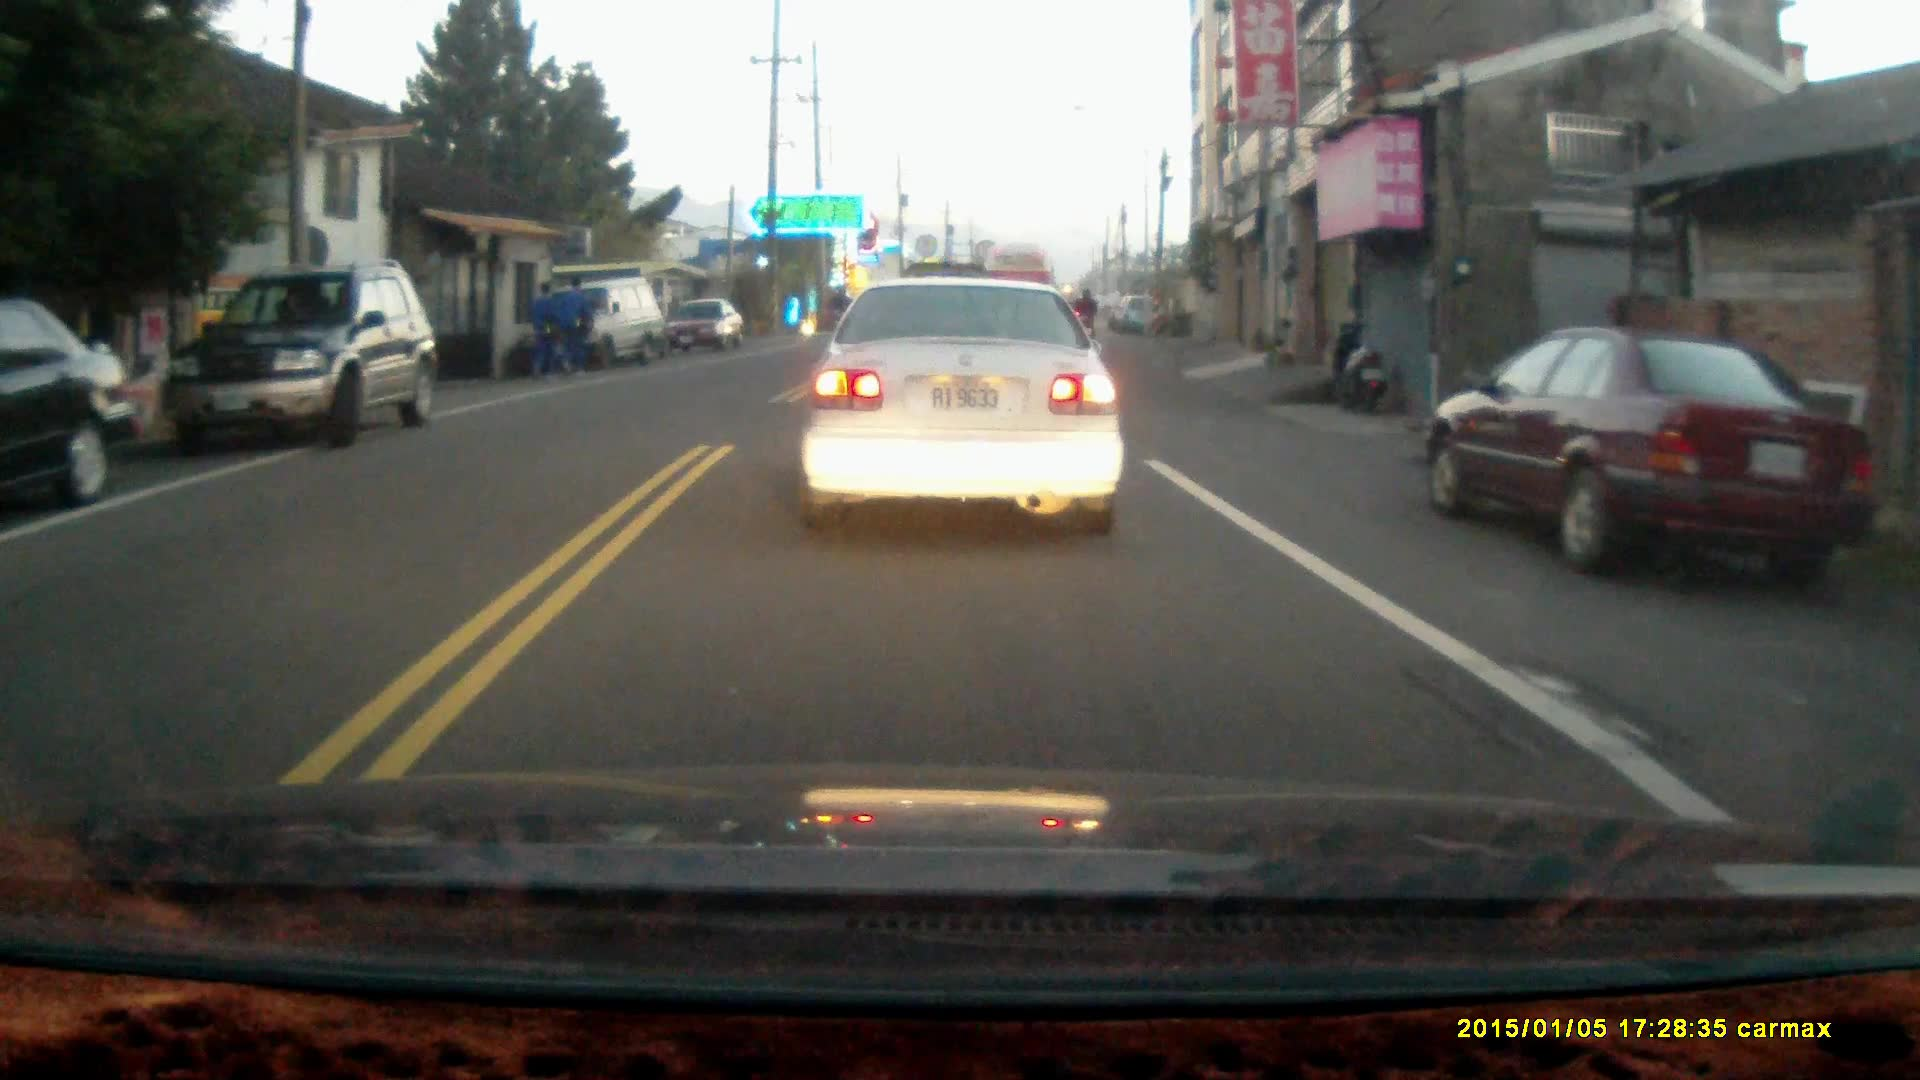pedestrian: (522, 278, 558, 383), (559, 271, 591, 379)
vehicle: (1419, 327, 1862, 583), (800, 277, 1130, 543), (169, 262, 434, 449), (1, 301, 139, 518), (549, 278, 679, 368), (658, 299, 746, 358)
